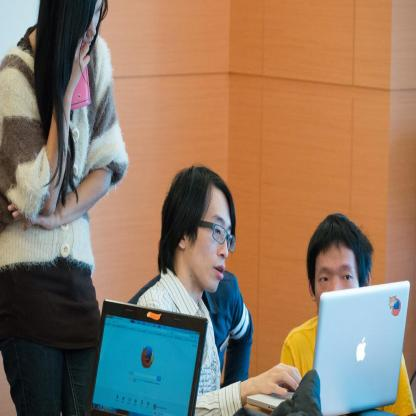board: (247, 283, 409, 416), (89, 299, 208, 416)
